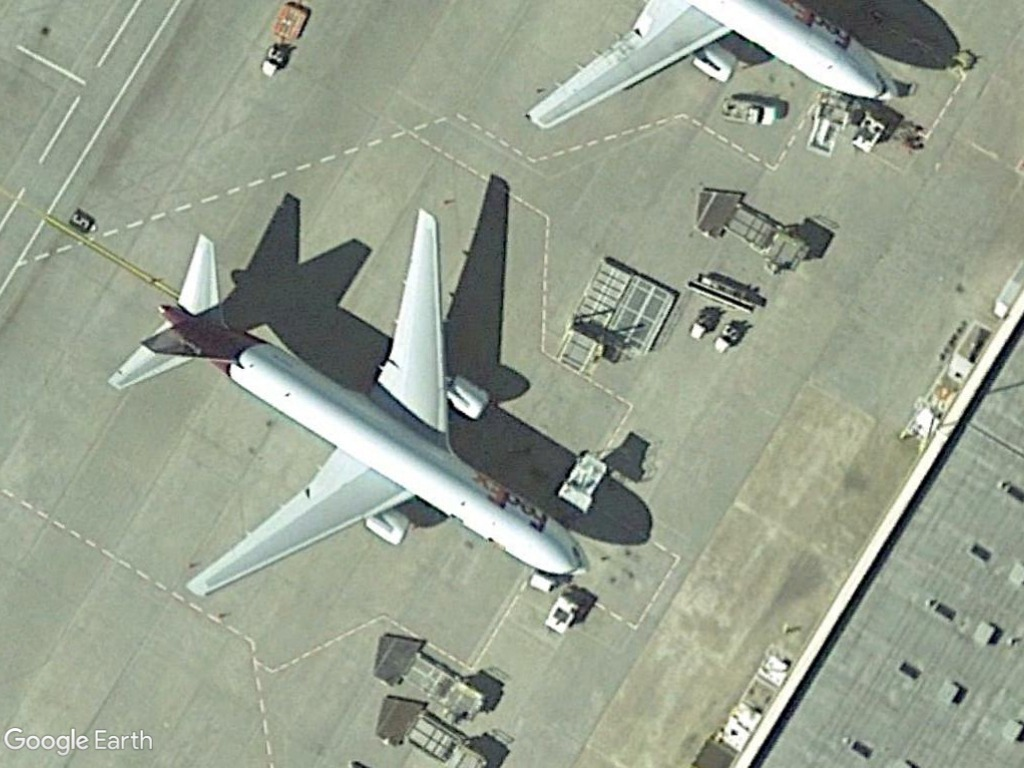airliner: (106, 202, 596, 613)
